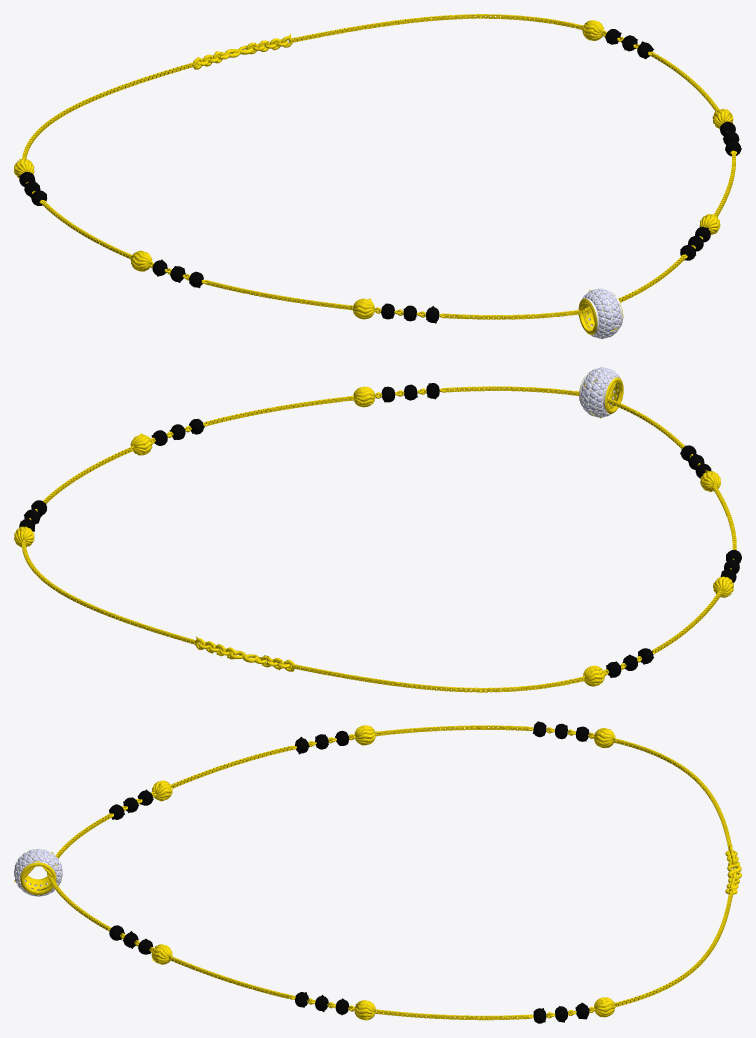
3 views of the same model, one above another, from view 1: azimuth 30°, elevation 25°; view 2: azimuth 150°, elevation 25°; view 3: azimuth 270°, elevation 25° (orthographic). The views are drawn at different scales.
Visible parts, largest first — view 1: highPolyMesh, lowPolyMesh; view 2: highPolyMesh, lowPolyMesh; view 3: highPolyMesh, lowPolyMesh.
Boxes of the visible parts, box(x1,y1,x2,y2) form: highPolyMesh: box(14, 14, 741, 338); lowPolyMesh: box(14, 14, 741, 338); highPolyMesh: box(14, 367, 741, 692); lowPolyMesh: box(15, 367, 740, 692); highPolyMesh: box(14, 721, 741, 1023); lowPolyMesh: box(14, 721, 739, 1022).
Bounding box in the file's own units: 0.1359 × 0.00958 × 0.1424.
